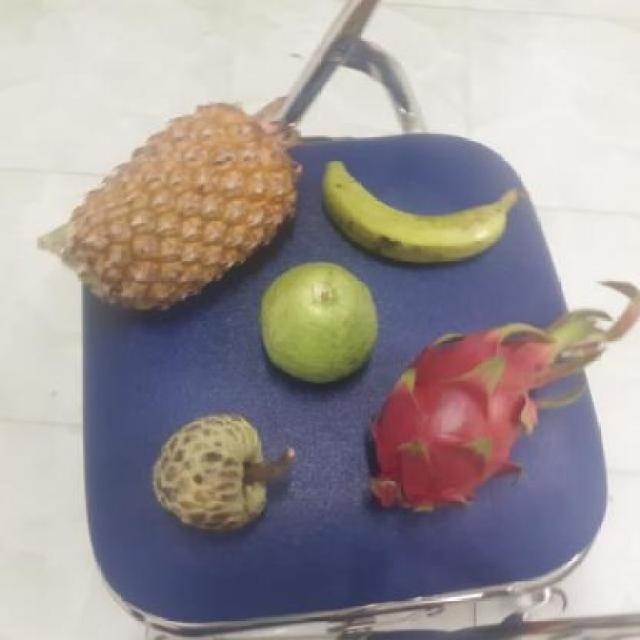banana: (308, 144, 510, 268)
dragon fruit: (356, 335, 533, 513)
guava: (252, 262, 376, 384)
pineapple: (57, 108, 292, 317)
sugar apple: (142, 416, 282, 532)
